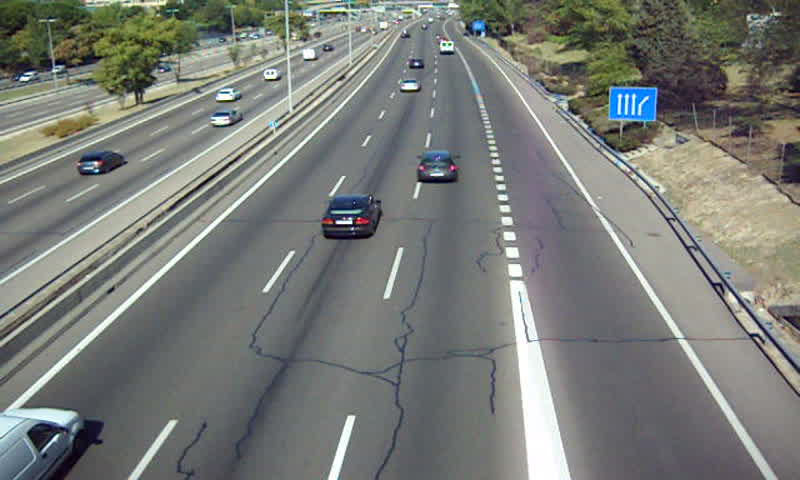car: (322, 195, 379, 238), (417, 150, 459, 182), (398, 78, 421, 93), (406, 58, 424, 73)
